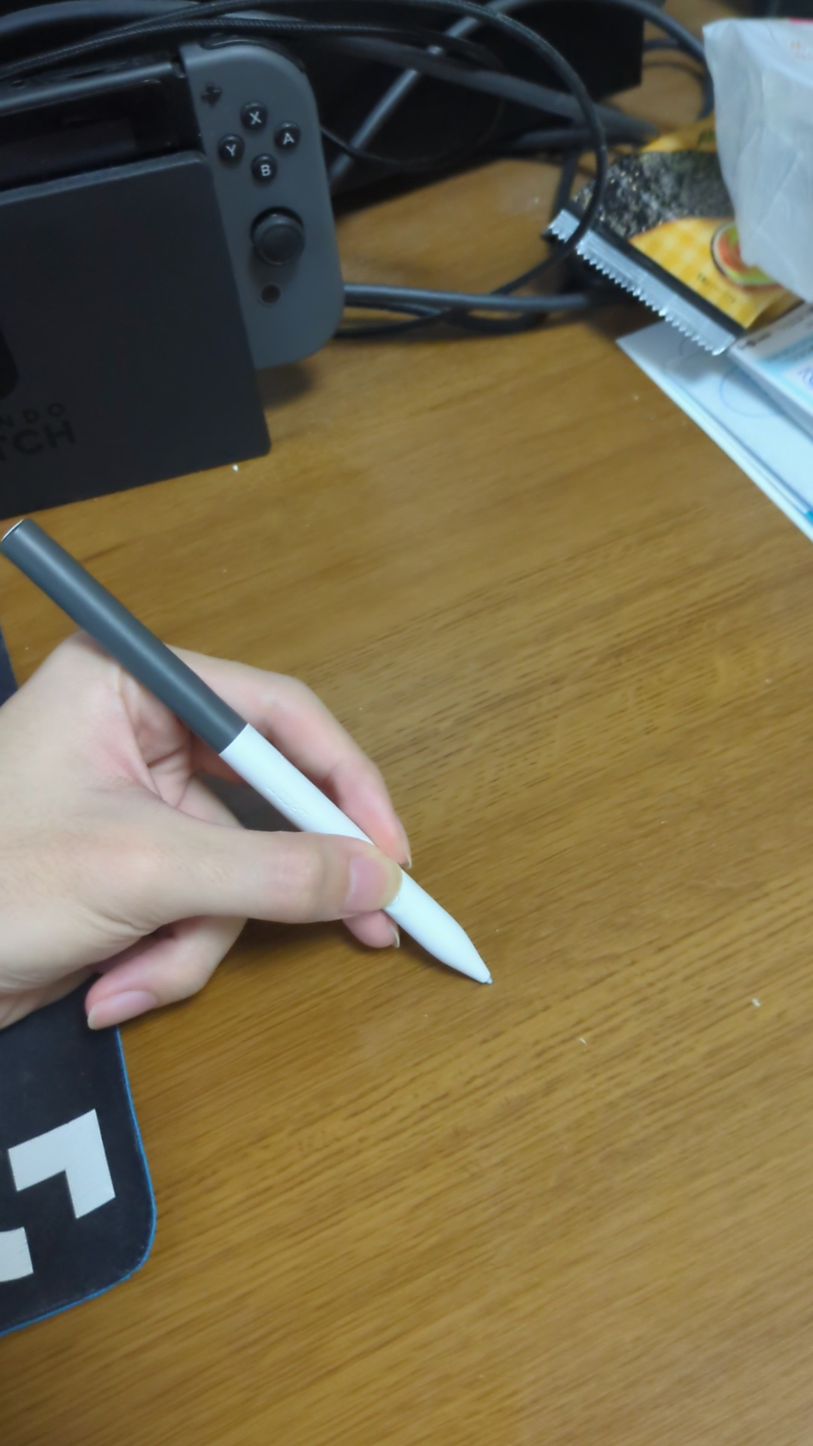pen: (9, 511, 502, 995)
tip: (476, 965, 512, 995)
